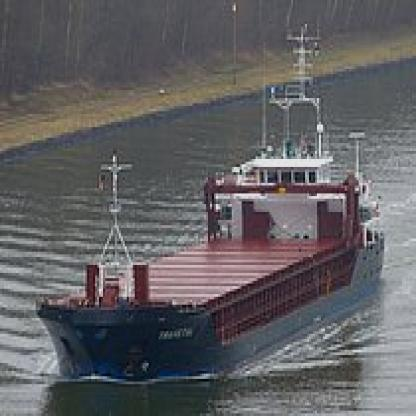Tanker: (30, 16, 394, 397)
